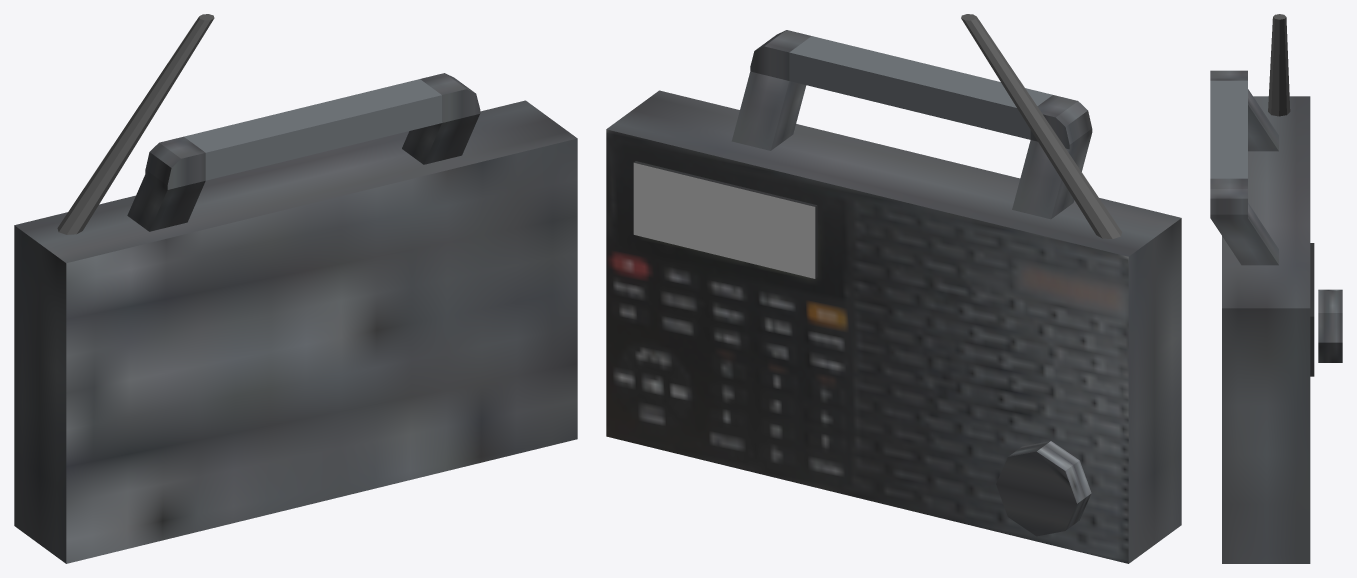
The model's file is Radio.fbx.
3 views of the same model, side by side, from view 1: azimuth 30°, elevation 25°; view 2: azimuth 150°, elevation 25°; view 3: azimuth 270°, elevation 25° (orthographic). The views are drawn at different scales.
Visible parts, largest first — view 1: Radio; view 2: Radio, RadioSwitch; view 3: Radio, RadioSwitch.
Part boxes in pixels (<box>): Radio: <box>14,14,577,563</box>; Radio: <box>606,14,1181,563</box>; RadioSwitch: <box>996,441,1091,536</box>; Radio: <box>1210,14,1314,563</box>; RadioSwitch: <box>1318,289,1342,362</box>.
Size of the model in its own units: 33.9 by 30.36 by 8.92.
